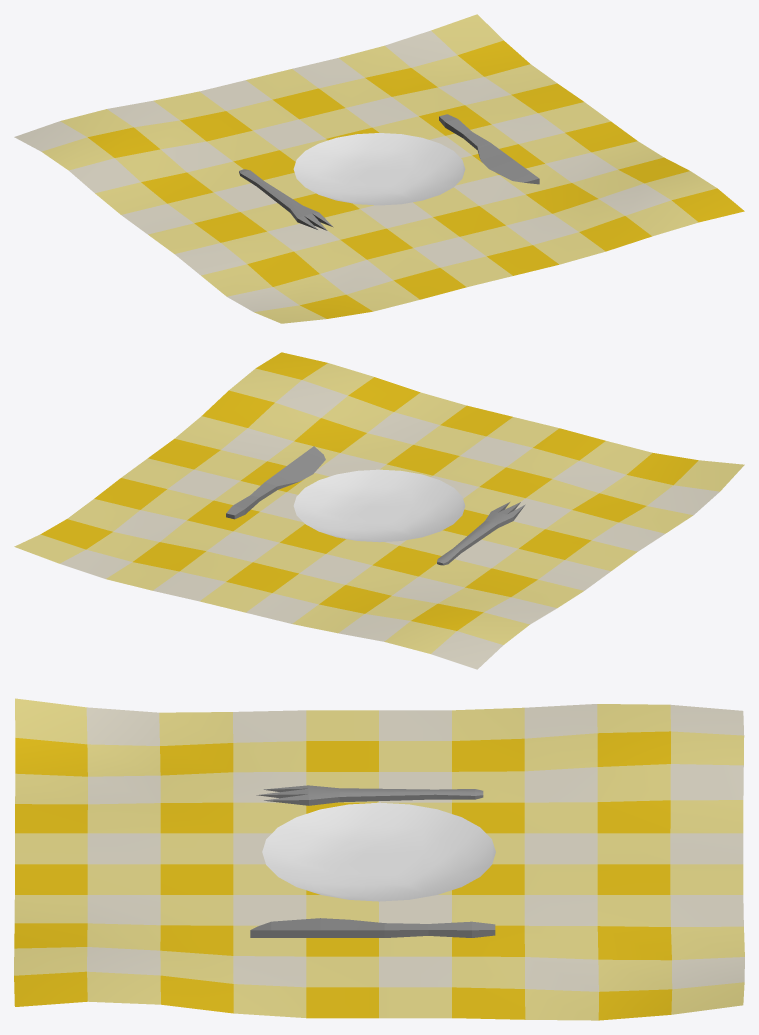
Rendered from 001_Picnic_Yellow_001.fbx.
The picture shows the model from 3 angles, top to bottom: view 1: azimuth 30°, elevation 25°; view 2: azimuth 150°, elevation 25°; view 3: azimuth 270°, elevation 25°; orthographic projection. The views are drawn at different scales.
Parts seen in each view (by area): view 1: pDisc2; view 2: pDisc2; view 3: pDisc2.
Part boxes in pixels (bbox=[...]): pDisc2: bbox=[14, 14, 744, 323]; pDisc2: bbox=[14, 352, 744, 669]; pDisc2: bbox=[14, 698, 744, 1020].
Size of the model in its own units: 36.54 by 1.21 by 36.51.
